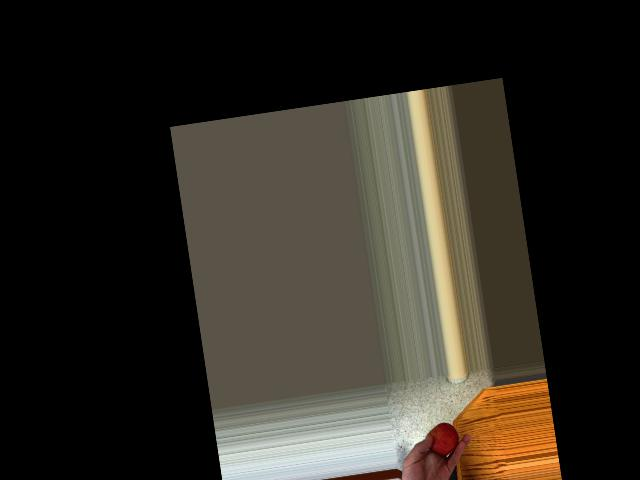apple: (421, 420, 460, 461)
